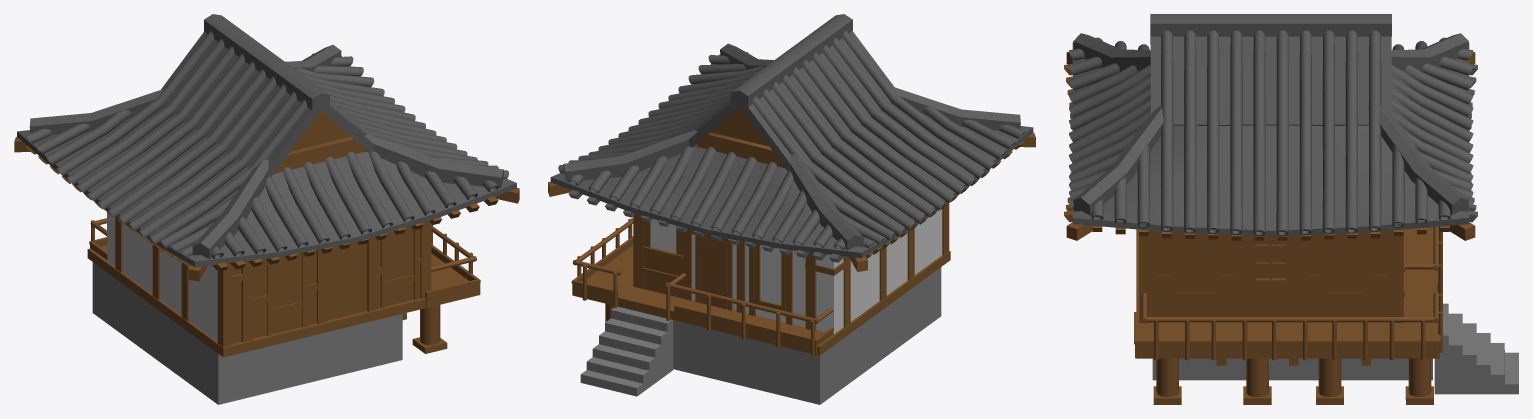
The model's file is mesh_house7.fbx.
3 views of the same model, side by side, from view 1: azimuth 30°, elevation 25°; view 2: azimuth 150°, elevation 25°; view 3: azimuth 270°, elevation 25° (orthographic). The views are drawn at different scales.
Parts seen in each view (by area): view 1: small_pagoda_05_roof, small_pagoda_05_wood, small_pagoda_05_stone, small_pagoda_05_wall; view 2: small_pagoda_05_roof, small_pagoda_05_wood, small_pagoda_05_stone, small_pagoda_05_wall; view 3: small_pagoda_05_roof, small_pagoda_05_wood, small_pagoda_05_stone.
Part boxes in pixels (x1=…): small_pagoda_05_roof: x1=17, y1=14, x2=516, y2=266; small_pagoda_05_wood: x1=14, y1=110, x2=519, y2=357; small_pagoda_05_stone: x1=92, y1=262, x2=402, y2=404; small_pagoda_05_wall: x1=107, y1=212, x2=217, y2=341; small_pagoda_05_roof: x1=550, y1=14, x2=1033, y2=262; small_pagoda_05_wood: x1=548, y1=107, x2=1035, y2=356; small_pagoda_05_stone: x1=580, y1=267, x2=941, y2=404; small_pagoda_05_wall: x1=650, y1=209, x2=942, y2=334; small_pagoda_05_roof: x1=1069, y1=14, x2=1477, y2=236; small_pagoda_05_wood: x1=1064, y1=51, x2=1475, y2=404; small_pagoda_05_stone: x1=1152, y1=303, x2=1518, y2=394.
Size of the model in its own units: 9.46 by 7.84 by 10.08.
